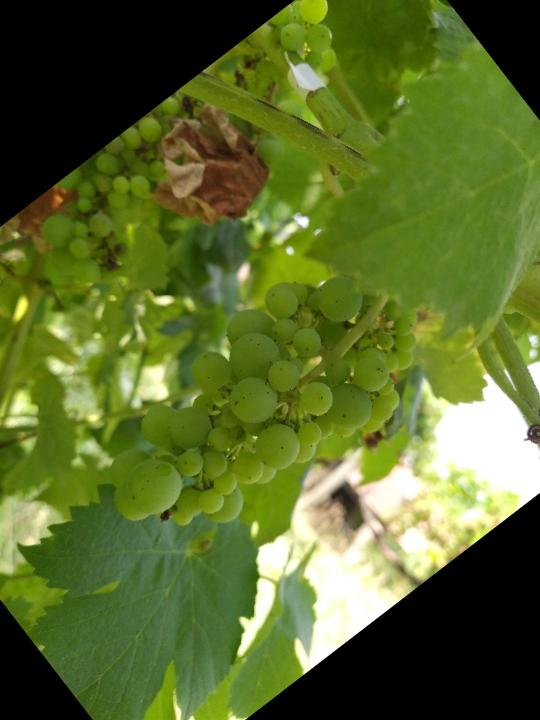grape: (63, 225, 461, 590)
